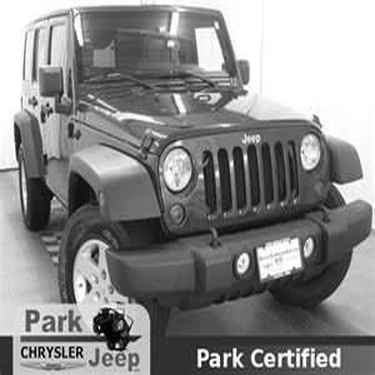car: (7, 7, 372, 357)
